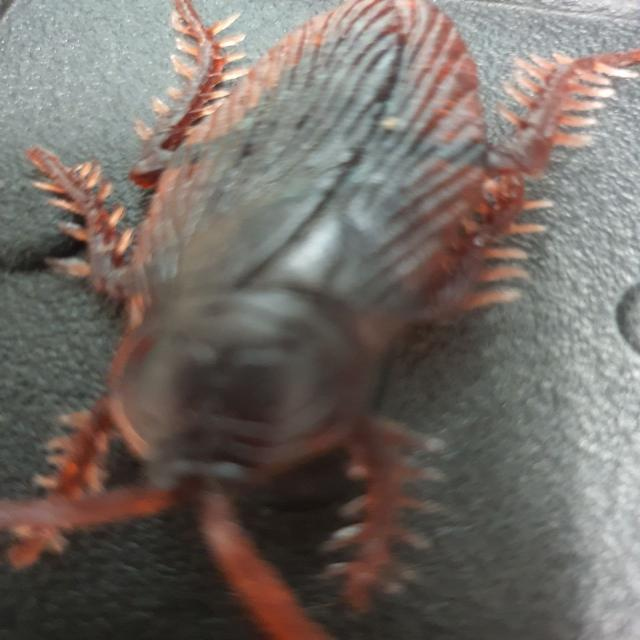Cockroach: (11, 0, 618, 640)
